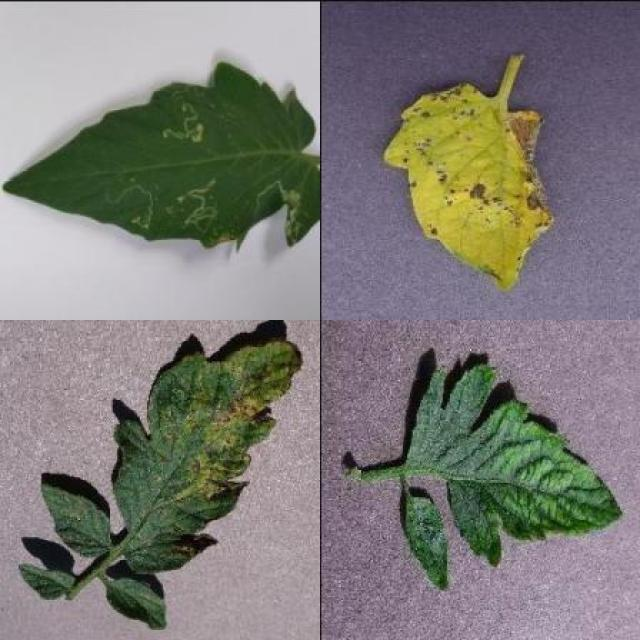Leaf Miner: (1, 63, 320, 250)
Mosaic Virus: (401, 366, 626, 571)
Septoria: (112, 336, 302, 574), (382, 84, 549, 294)
